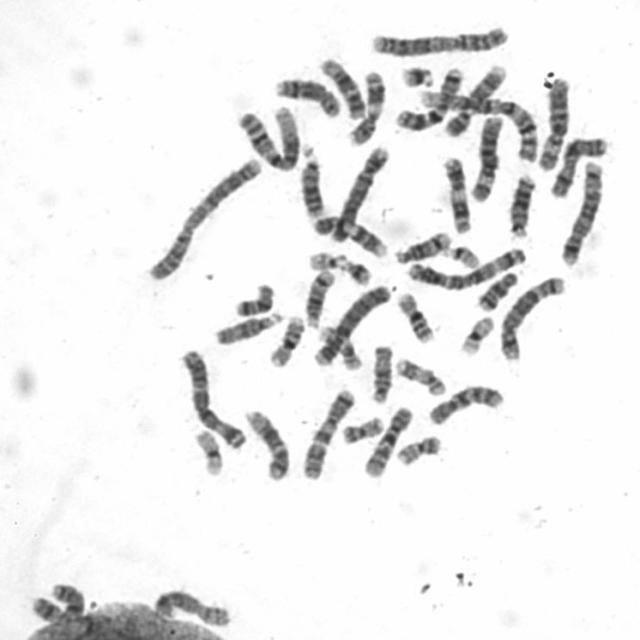A1: (412, 84, 541, 164), (231, 99, 303, 172)
A2: (141, 150, 264, 282), (364, 16, 512, 58)
A3: (174, 341, 249, 450), (402, 240, 528, 290)
B4: (308, 276, 393, 368), (322, 138, 390, 243)
B5: (493, 267, 568, 363), (554, 152, 606, 268)
C10: (359, 398, 416, 479), (421, 376, 506, 427)
C11: (341, 62, 388, 147), (436, 149, 474, 235)
C12: (238, 402, 292, 482), (314, 49, 367, 120)
C6: (531, 71, 573, 172), (463, 108, 506, 203)
C7: (296, 381, 359, 481), (389, 61, 466, 132)
C8: (147, 581, 233, 629), (268, 71, 342, 118)
C9: (439, 57, 512, 139), (307, 209, 390, 259)
D13: (293, 138, 327, 219), (502, 168, 538, 239)
D14: (389, 224, 453, 265), (299, 262, 337, 329)
D15: (208, 305, 286, 346), (364, 338, 394, 405)
E16: (391, 285, 438, 345), (264, 308, 308, 369)
E17: (388, 350, 448, 398), (313, 320, 363, 371)
E18: (471, 265, 521, 312), (228, 276, 277, 317)
F19: (188, 422, 226, 478), (454, 309, 497, 357)
F20: (390, 428, 444, 467), (336, 409, 386, 445)
G21: (337, 252, 374, 288), (394, 58, 436, 89)
G22: (438, 238, 483, 270), (302, 244, 349, 271)
X: (544, 129, 612, 200), (25, 576, 87, 626)
